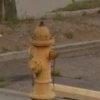Hydrant: (19, 15, 61, 100)
